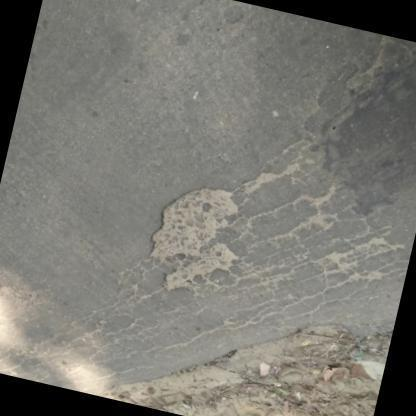pothole: (152, 188, 241, 294)
